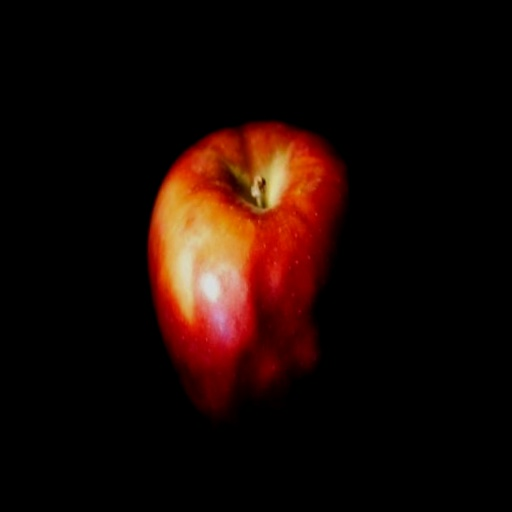fruit: (148, 121, 353, 452)
